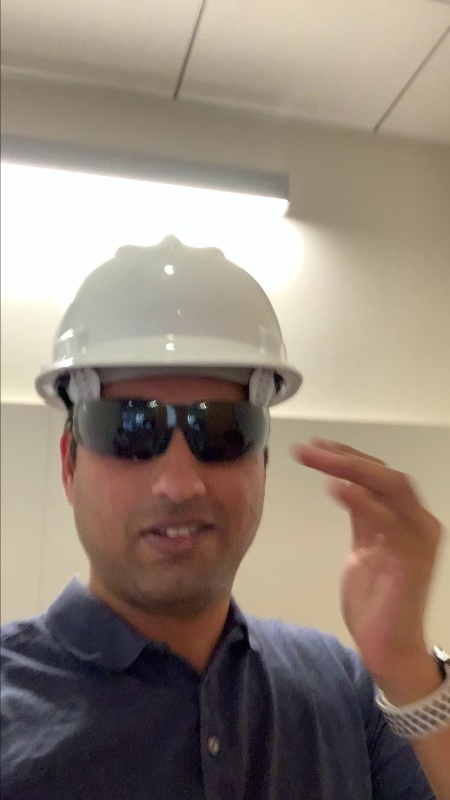glasses: (58, 392, 287, 473)
helmet: (17, 233, 317, 405)
